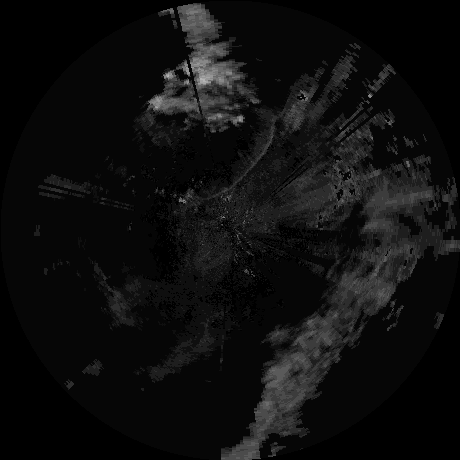frontgust: (200, 117, 274, 202)
